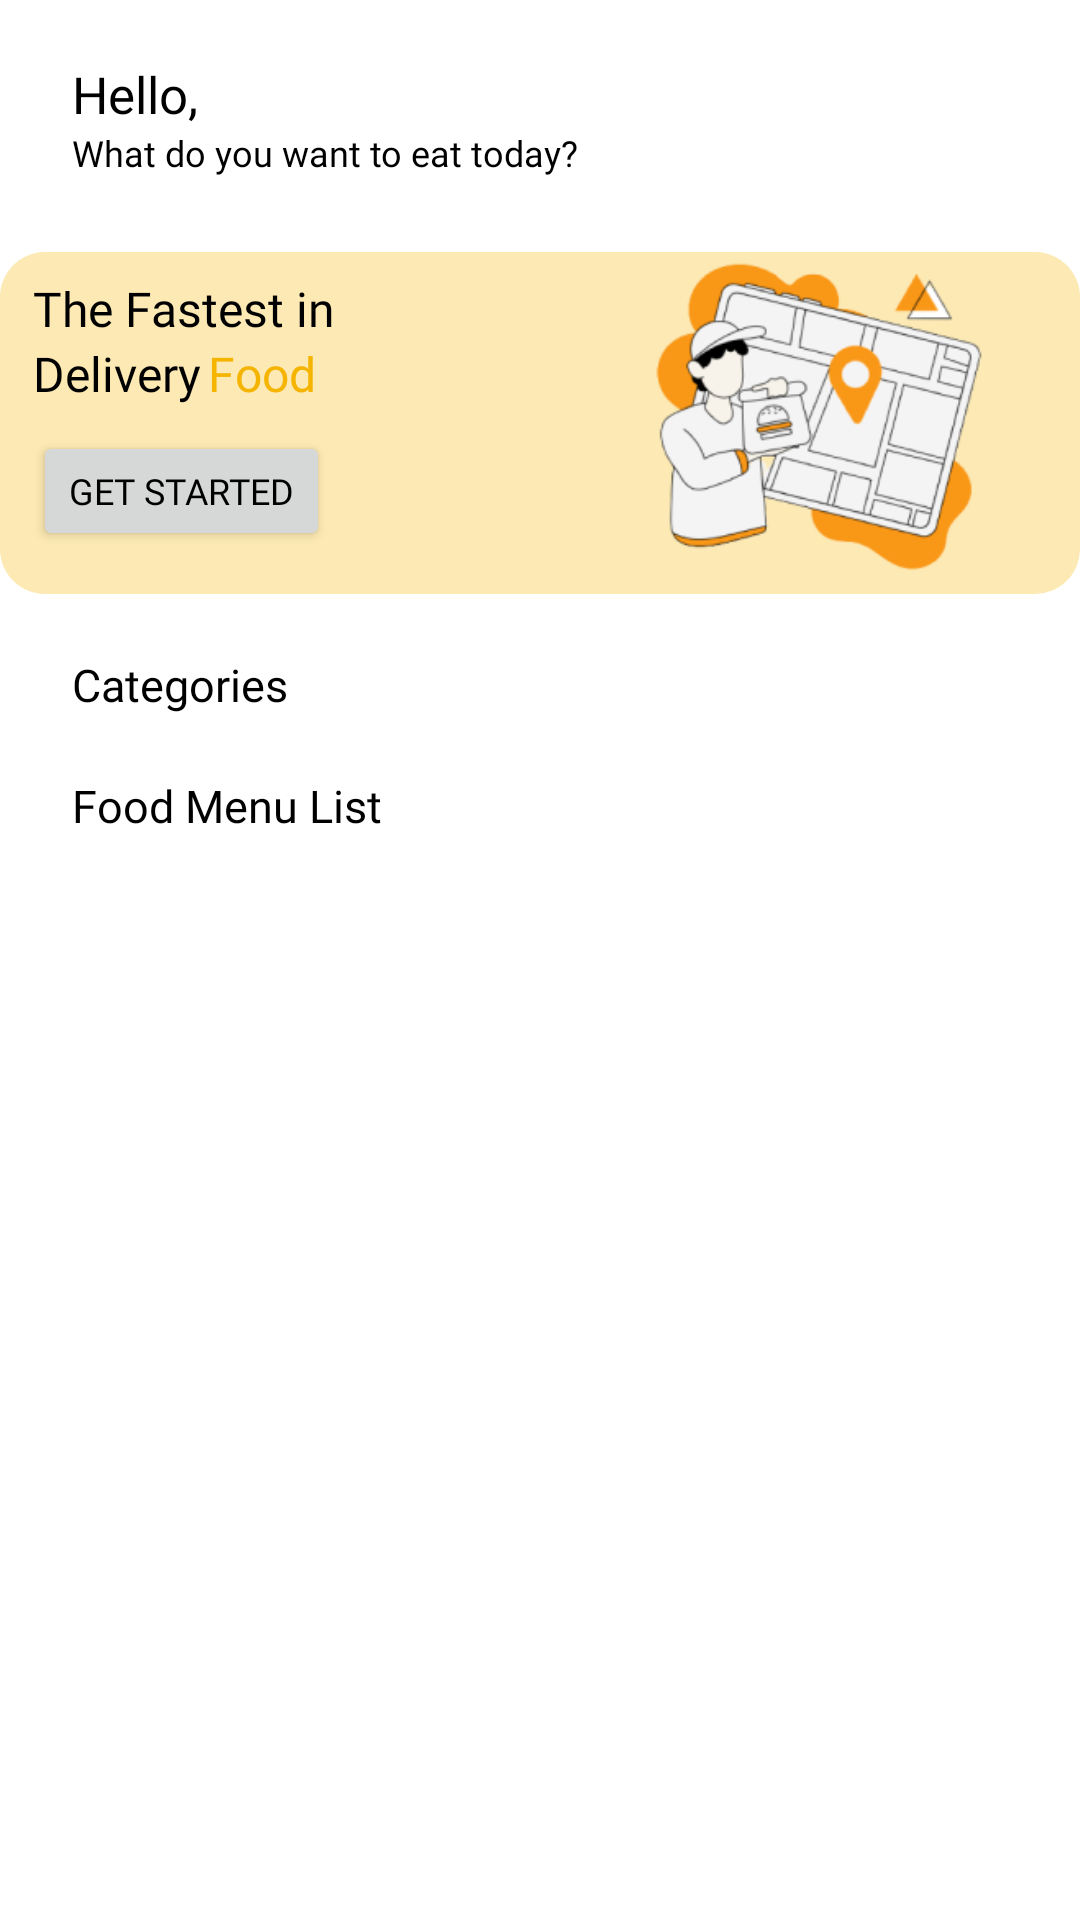

Icons on this 1080 × 1920 Android screen, each with the point to tap as point (x, y):
ini adalah illustrasi delivery makanan: point (819, 416)
